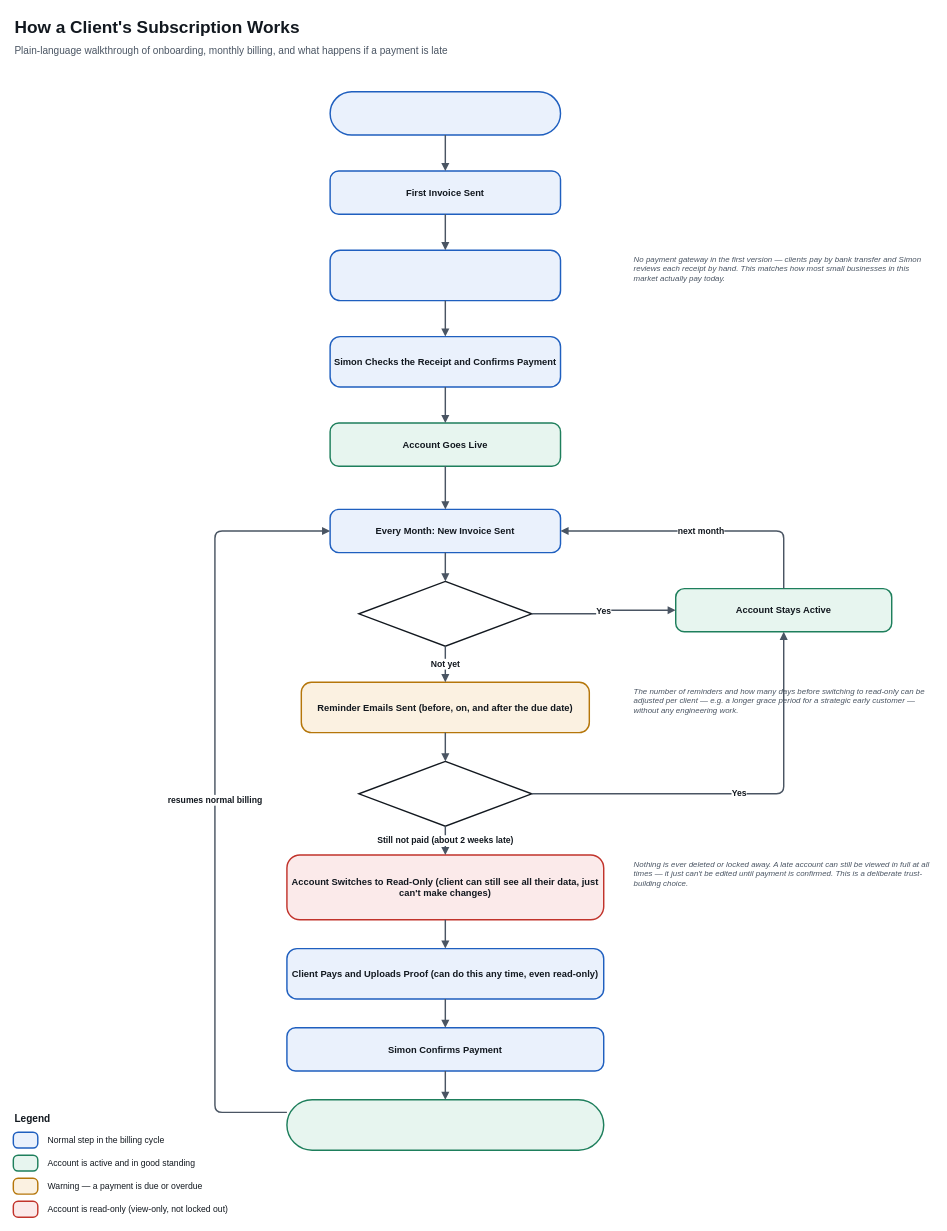
Image size: 947x1231. Some labels were removed from this diagram. The box of each missing label's shape, as (x1, y1, x2, y2) in pixels:
Account Automatically Goes Back to Active: (286, 1099, 604, 1151)
Client Pays by Bank Transfer and Uploads Proof of Payment: (329, 249, 561, 301)
New Client Signs Up: (329, 91, 561, 135)
Paid After a Reminder?: (358, 760, 532, 827)
Paid Before the Due Date?: (358, 580, 532, 647)
